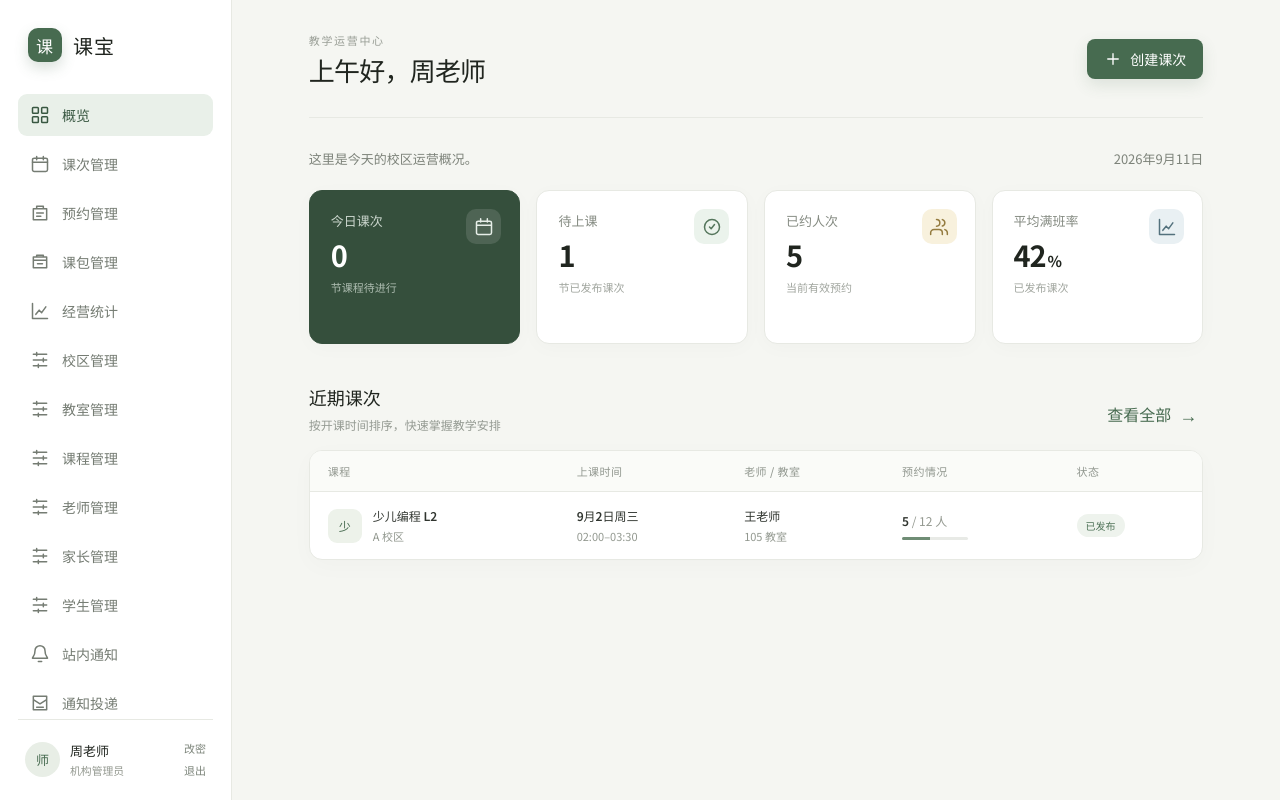
Test case: 管理后台 › 动态展示机构管理员身份并允许随时修改本人密码
The image size is (1280, 800).
Expected: the heading "上午好，周老师" is shown, [309, 54, 485, 85]
Expected: the text "机构管理员" is shown, [70, 762, 124, 778]
Click the button with aria-label "修改本人密码": (195, 748) [184, 738, 206, 758]
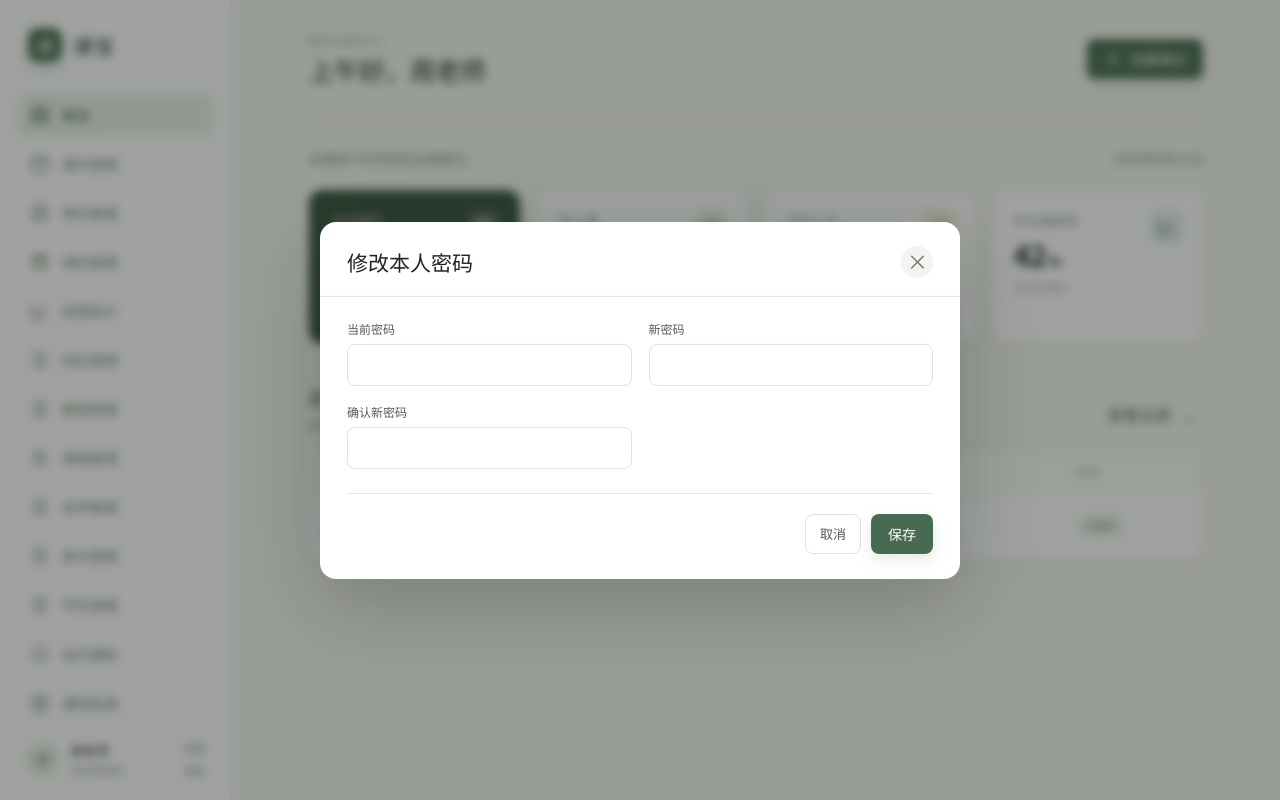
In the password field labelled "当前密码": (489, 364) [347, 344, 632, 386], type "OldPassword123!"
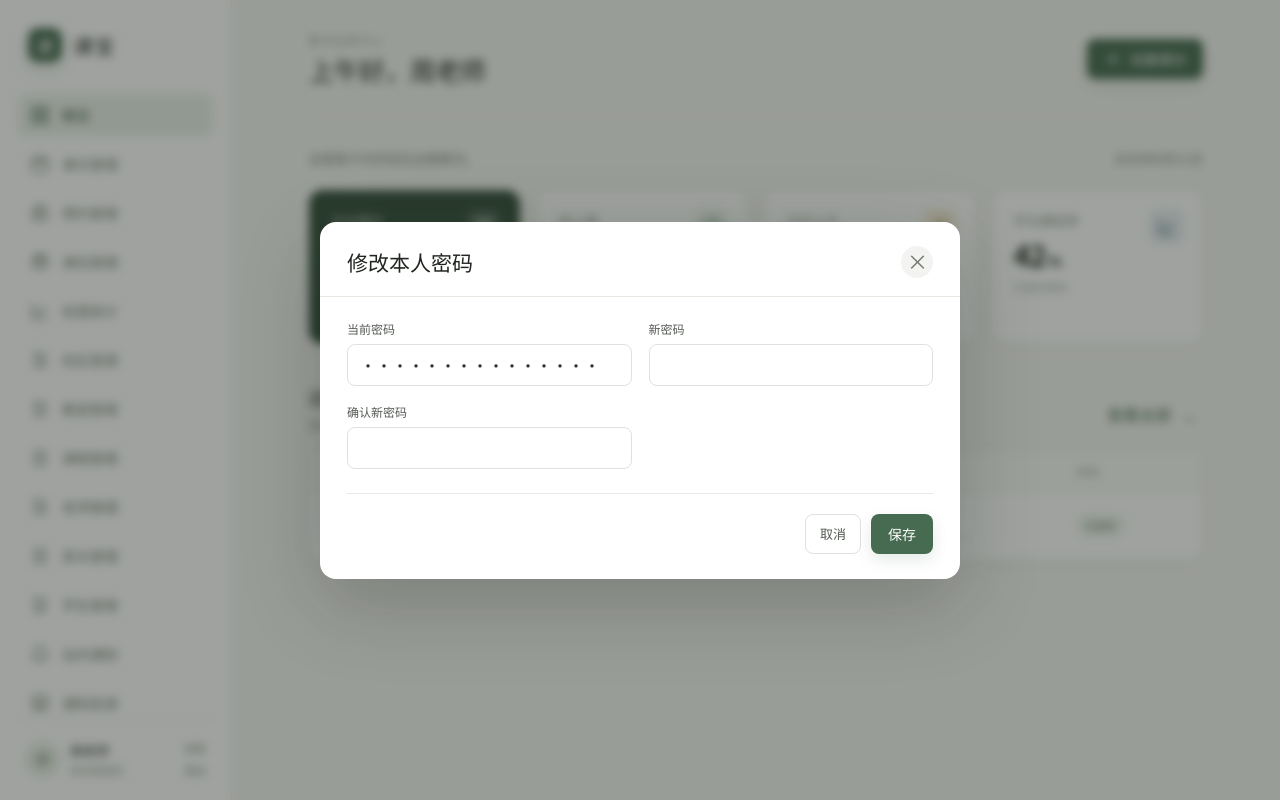
In the password field labelled "新密码": (791, 364) [648, 344, 933, 386], type "NewPassword123!"
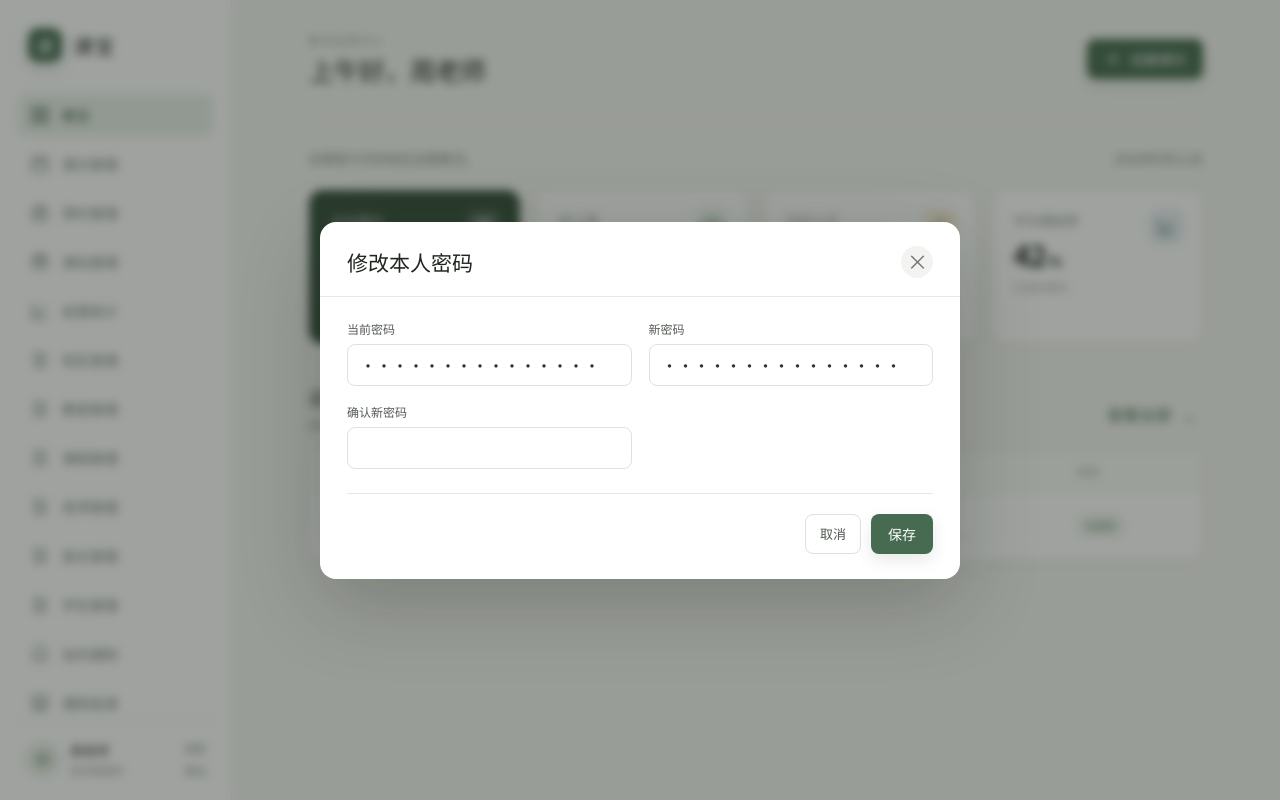
In the password field labelled "确认新密码": (489, 448) [347, 426, 632, 468], type "NewPassword123!"
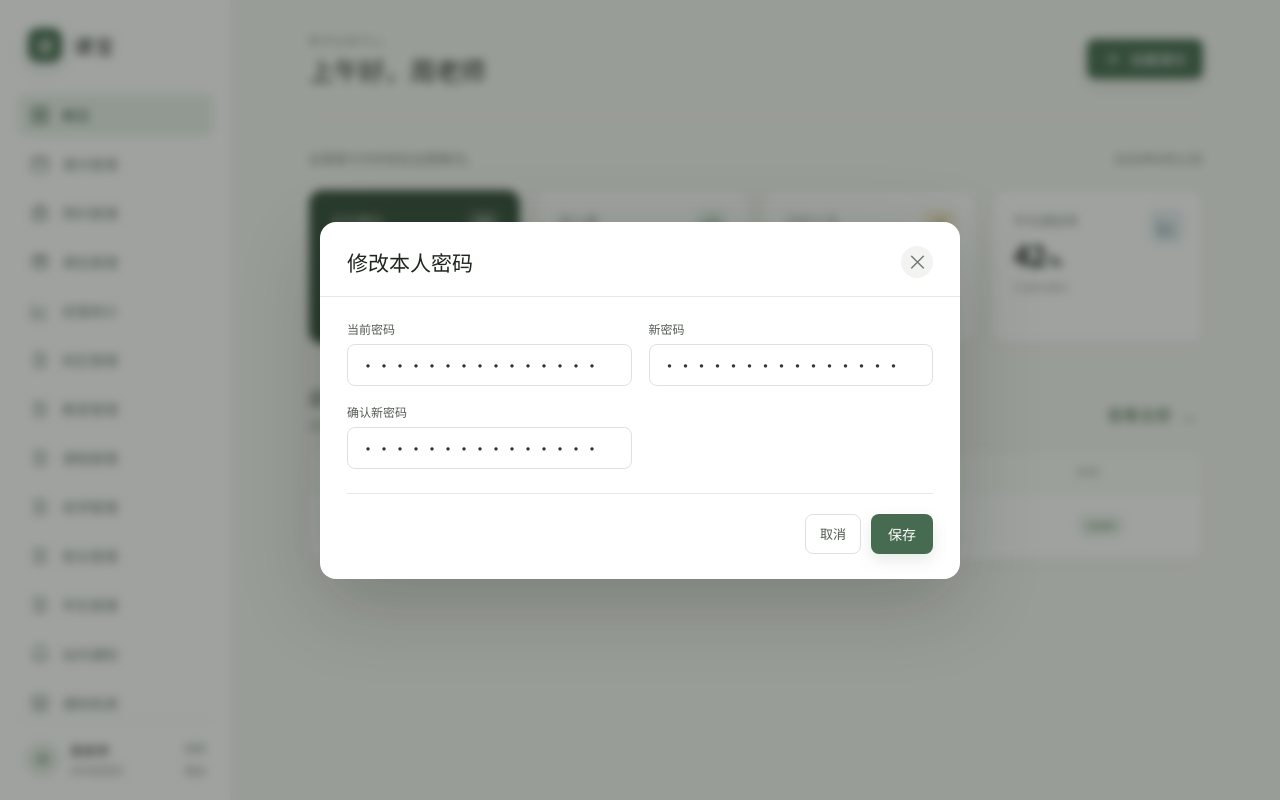
Click the button "保存": (902, 534) [871, 514, 933, 554]
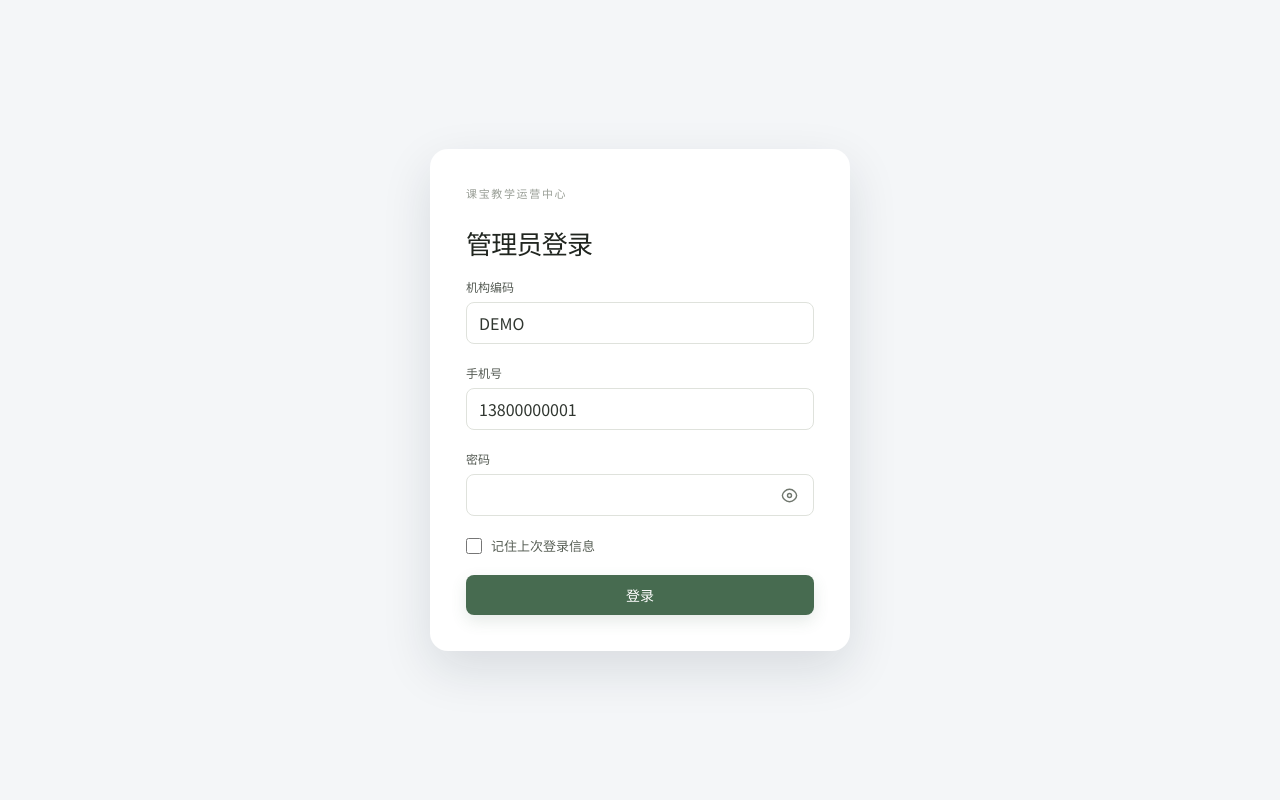
Expected: the heading "管理员登录" is shown, [466, 224, 592, 261]
Expected: the password field labelled "密码" is empty, [466, 474, 814, 516]
